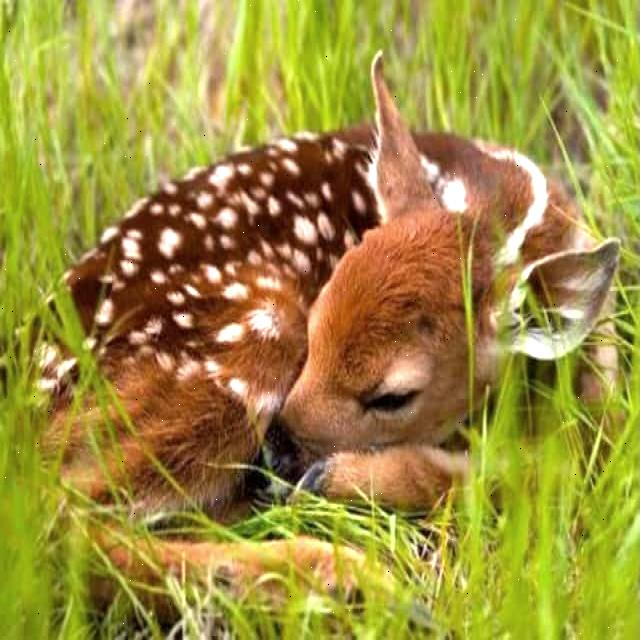deer: (270, 34, 622, 488)
